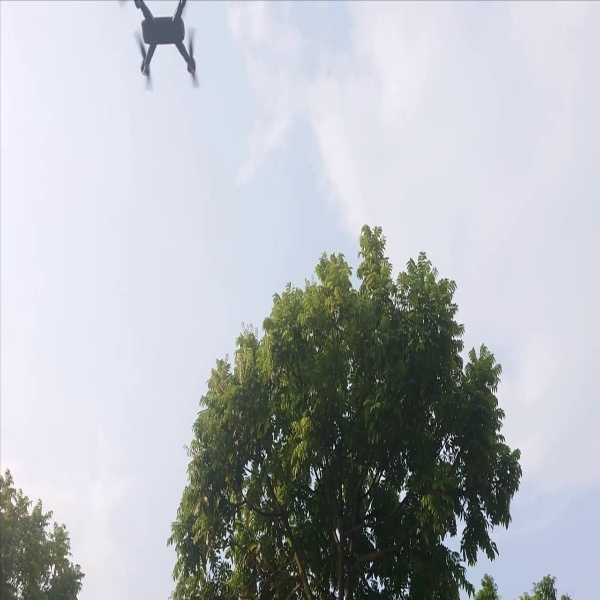drone: (111, 1, 219, 94)
